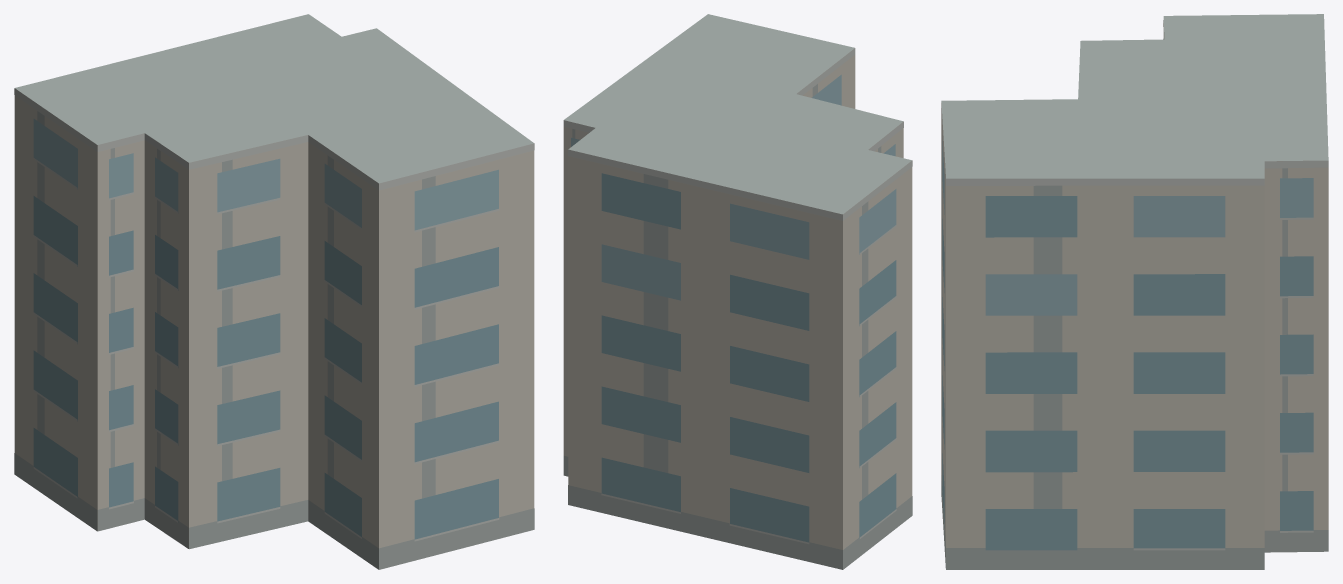
Rendered from survey-upis-32569128.glb.
3 views of the same model, side by side, from view 1: azimuth 30°, elevation 25°; view 2: azimuth 150°, elevation 25°; view 3: azimuth 270°, elevation 25° (orthographic). The views are drawn at different scales.
Parts seen in each view (by area): view 1: survey-upis-32569128.tmp; view 2: survey-upis-32569128.tmp; view 3: survey-upis-32569128.tmp.
Boxes of the visible parts, x1,y1,x2,y2 form: survey-upis-32569128.tmp: (14,14,534,569); survey-upis-32569128.tmp: (563,14,912,569); survey-upis-32569128.tmp: (941,14,1328,569).
Bounding box in the file's own units: 12.02 × 13.3 × 11.94.
